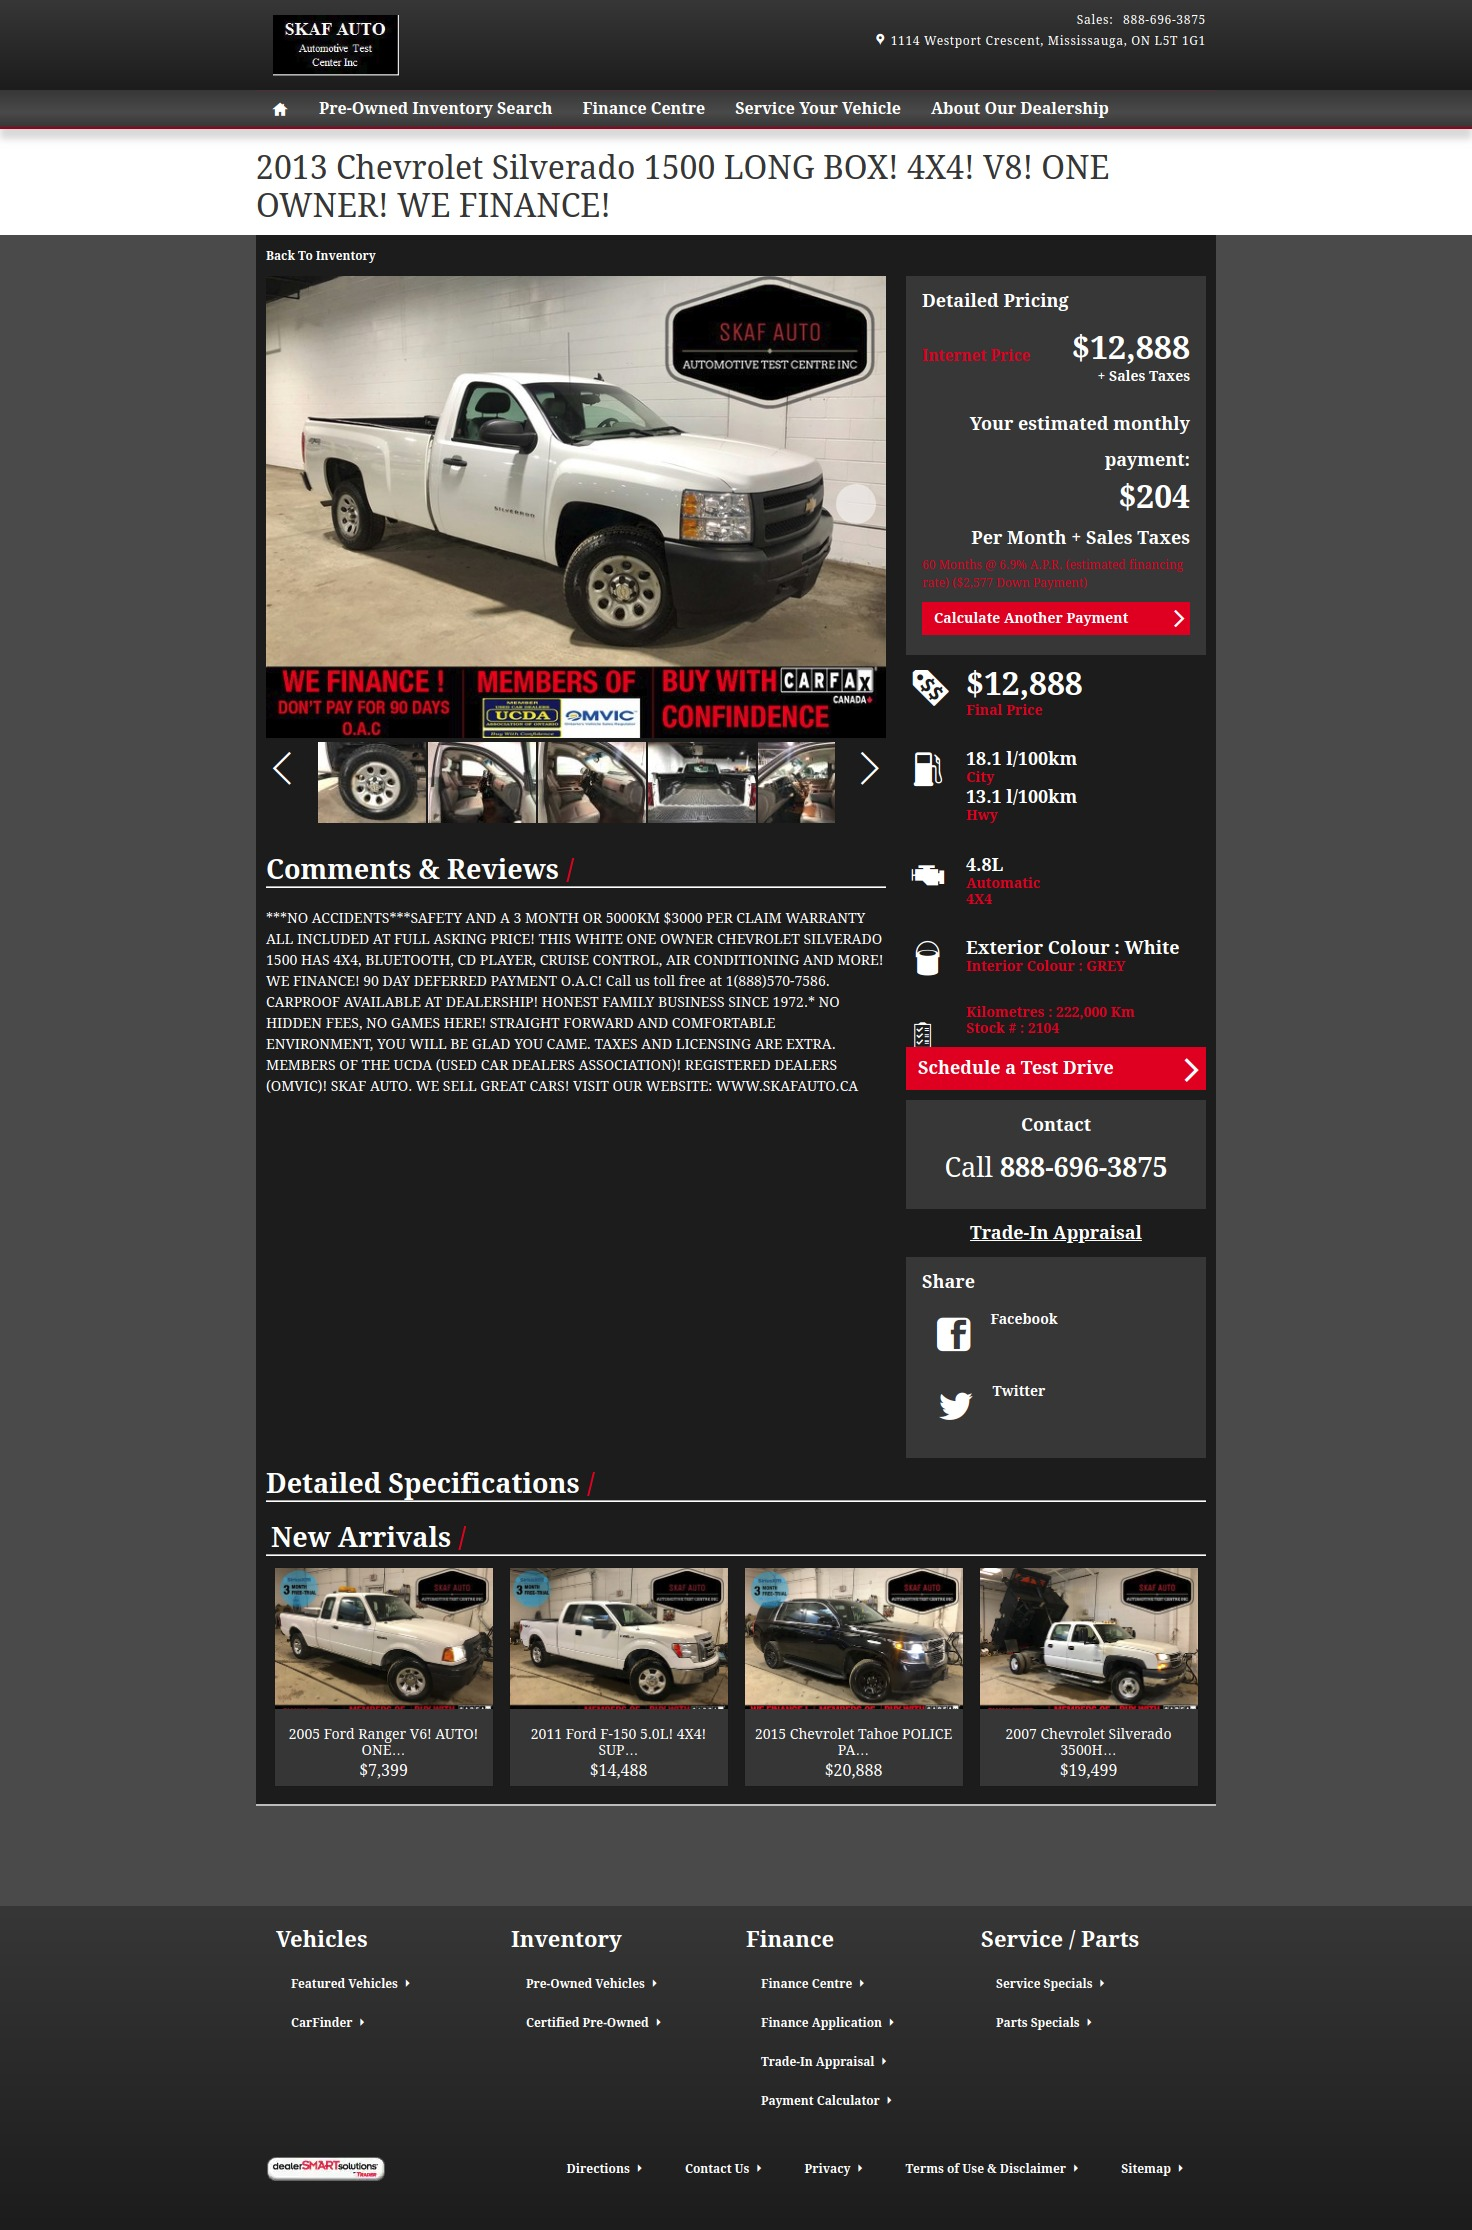car: (859, 752, 881, 787)
